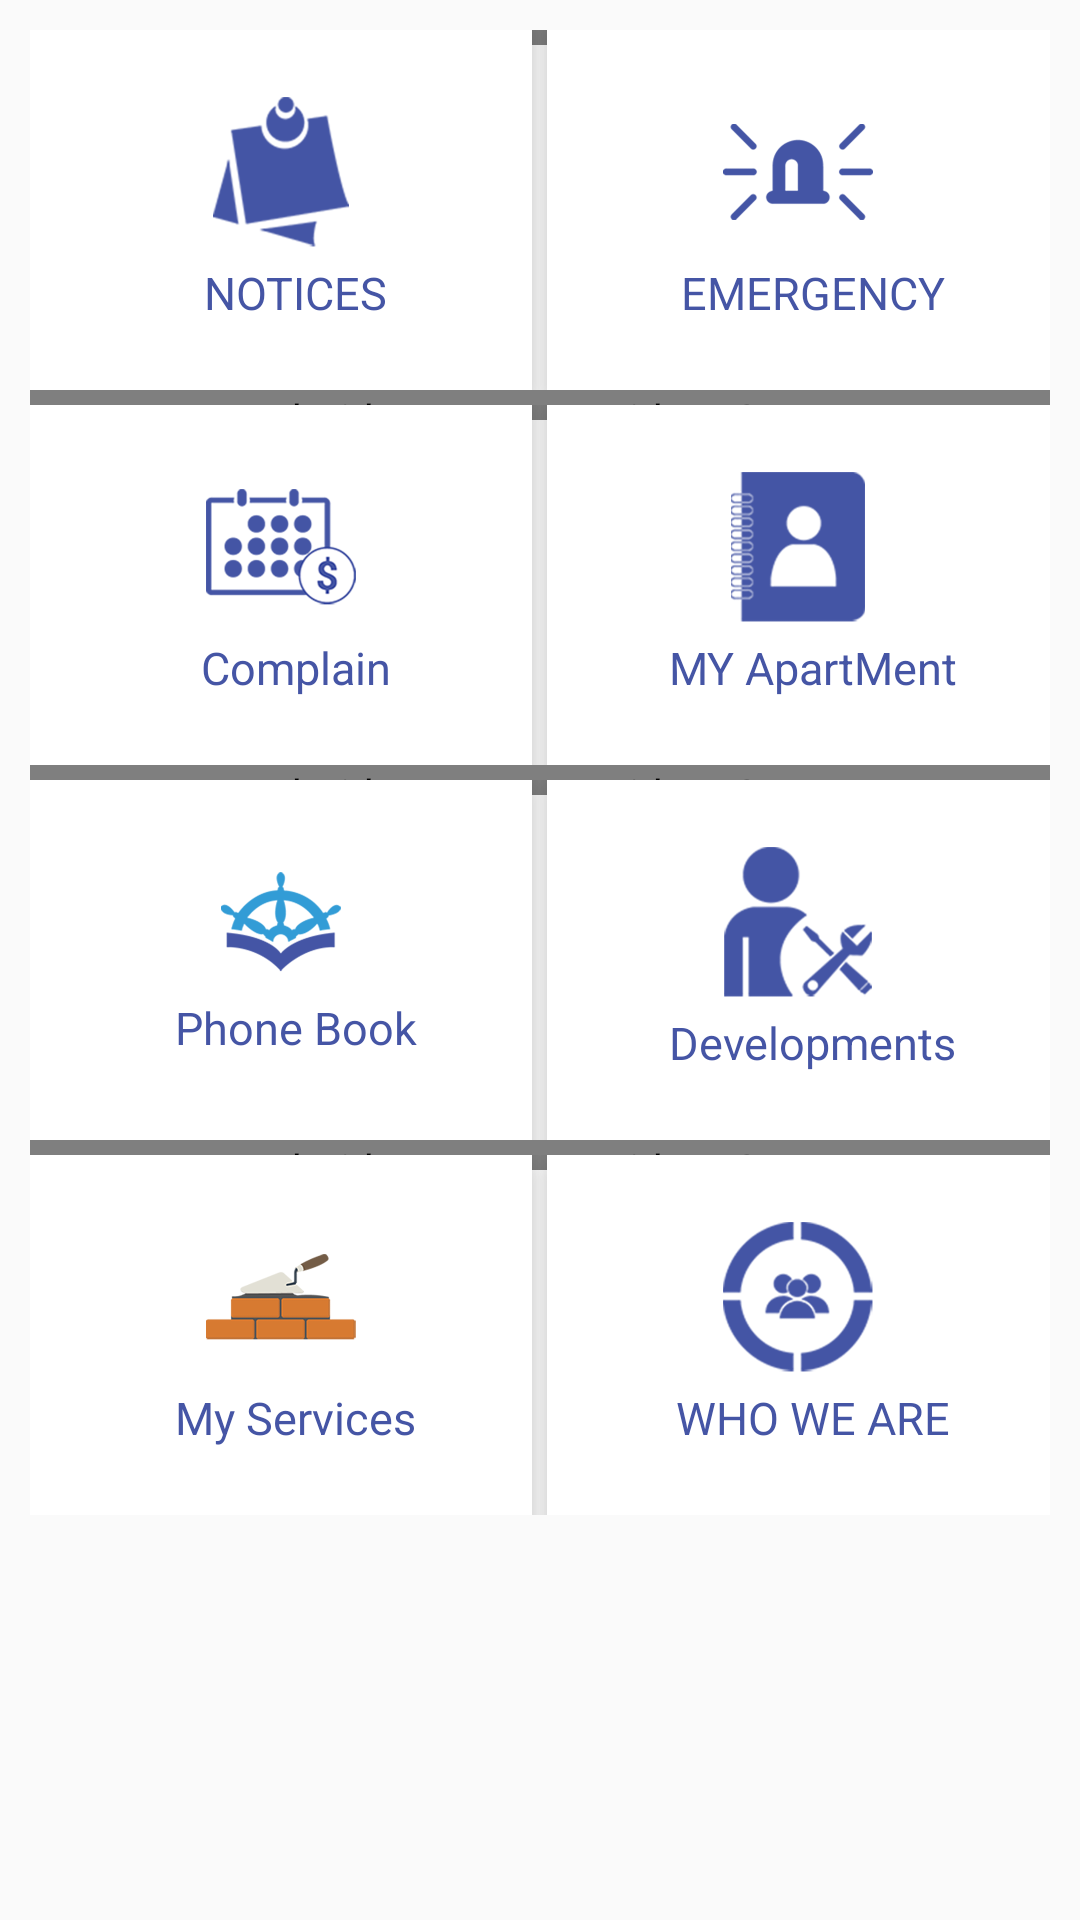

Named icons in this screenshot (1080x1920) and their centers, point (x, y):
service charges: point (281, 547)
service person: point (798, 922)
